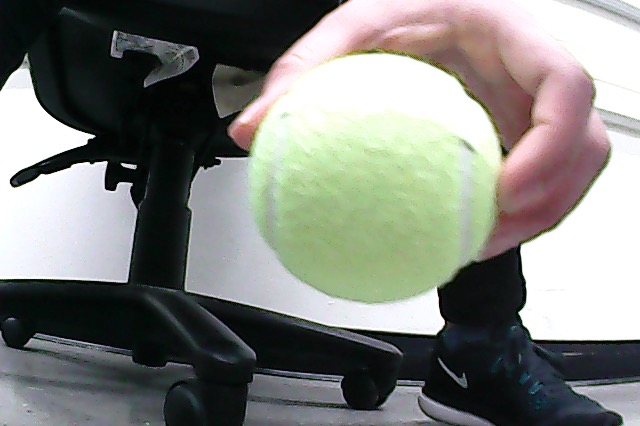ball: (251, 55, 501, 304)
